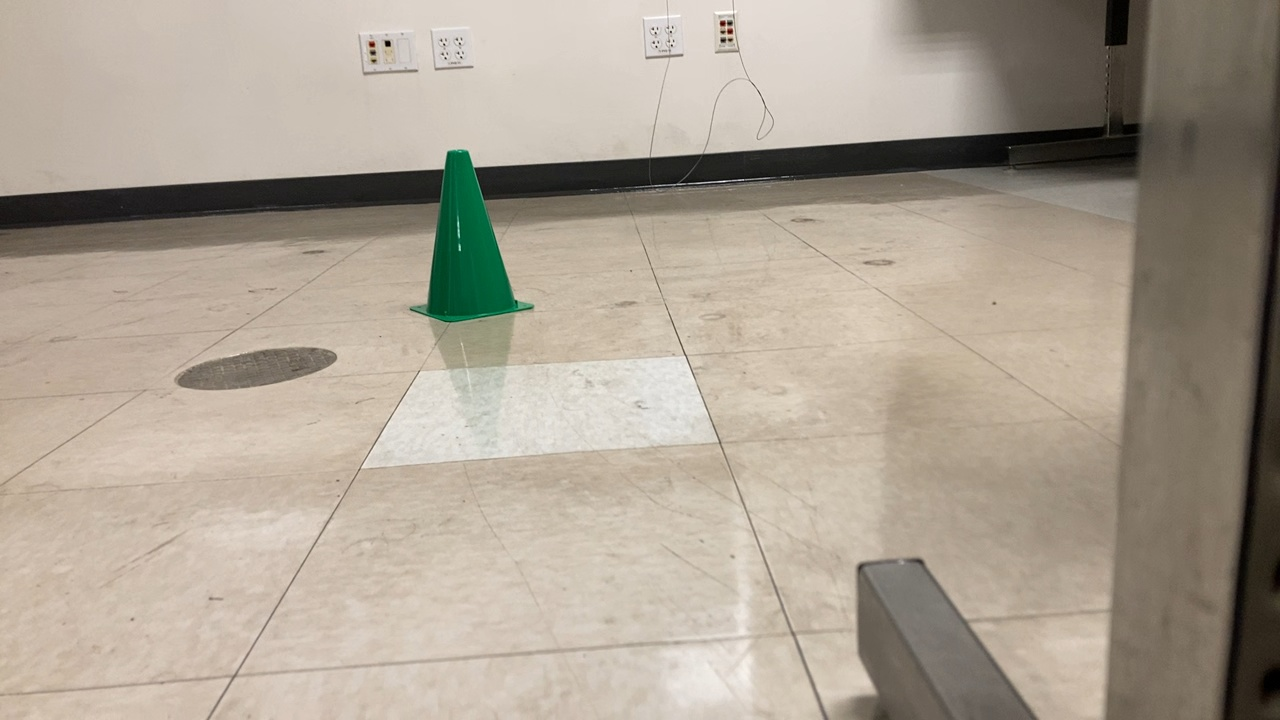green_cone: (403, 146, 539, 325)
